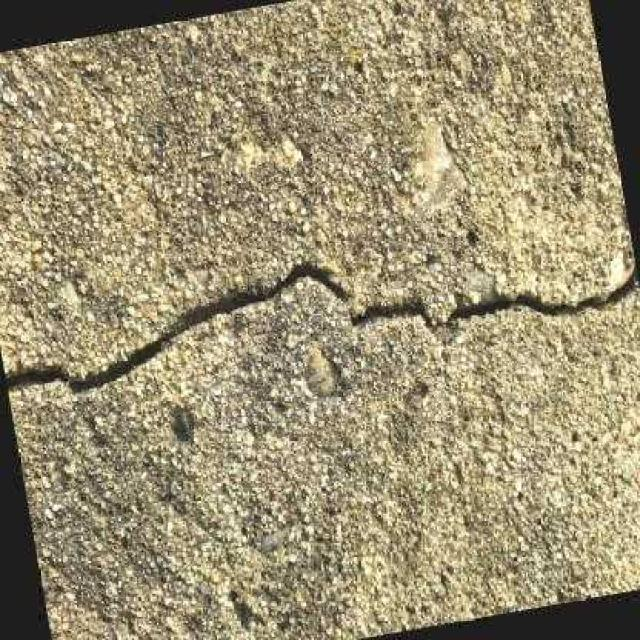D00: (4, 263, 638, 394)
